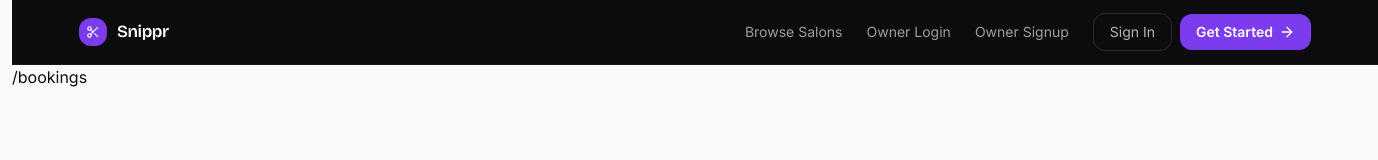
it: Header — signed out › Browse Salons → /salons (unchanged destination)
This screenshot has width=1378, height=160.
Step 1. Click the button "Browse Salons" → [794, 32], box top-left (745, 22), bottom-right (842, 42)
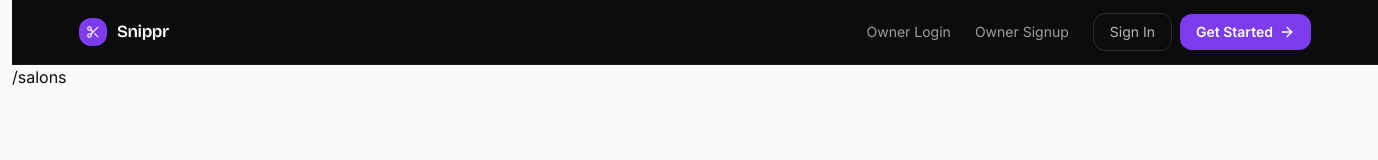
Check: the text with test id "location" reads "/salons", box top-left (12, 67), bottom-right (67, 87)
